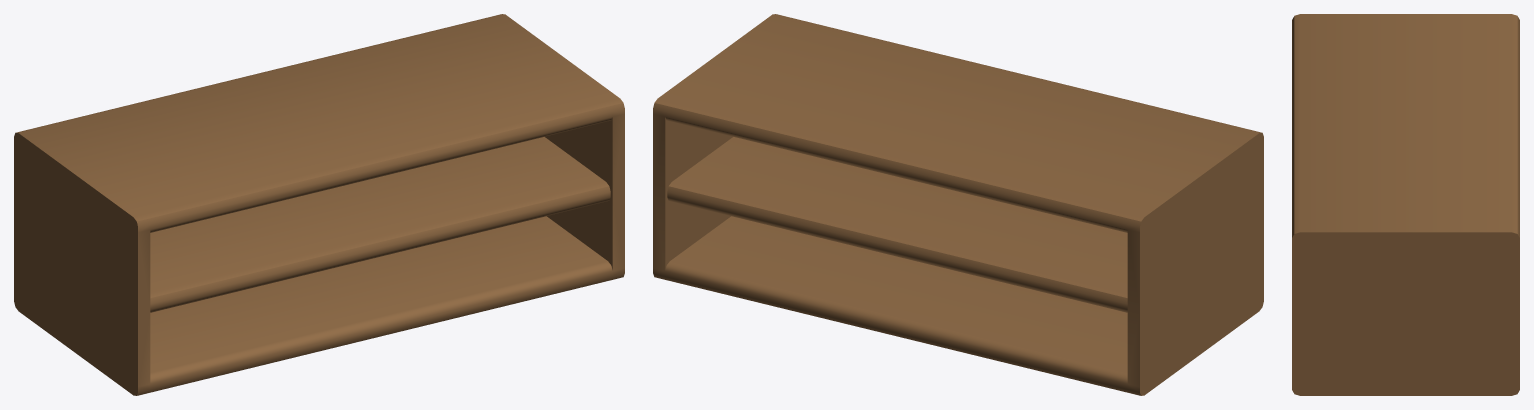
The model's file is cabinet-shelves.glb.
3 views of the same model, side by side, from view 1: azimuth 30°, elevation 25°; view 2: azimuth 150°, elevation 25°; view 3: azimuth 270°, elevation 25° (orthographic). The views are drawn at different scales.
Parts seen in each view (by area): view 1: Environment_Cabinet_Shelves; view 2: Environment_Cabinet_Shelves; view 3: Environment_Cabinet_Shelves.
Part boxes in pixels (x1,y1,x2,y2): Environment_Cabinet_Shelves: [14, 14, 624, 395]; Environment_Cabinet_Shelves: [653, 14, 1263, 395]; Environment_Cabinet_Shelves: [1292, 14, 1519, 395].
Bounding box in the file's own units: 4 × 1.4 × 1.77.
